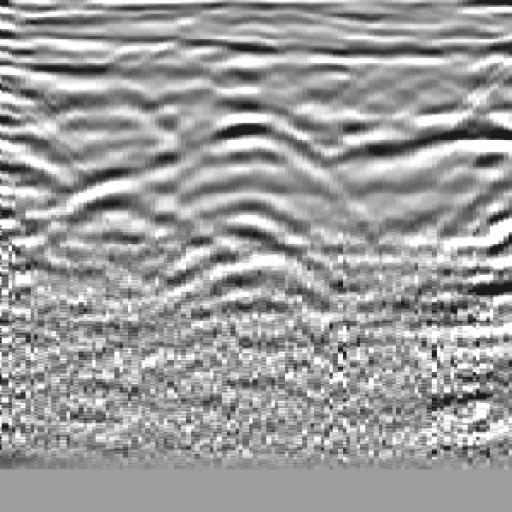metalic: (53, 24, 217, 298)
non-metallic: (164, 51, 354, 278)
nonmetalic: (408, 45, 512, 273)
